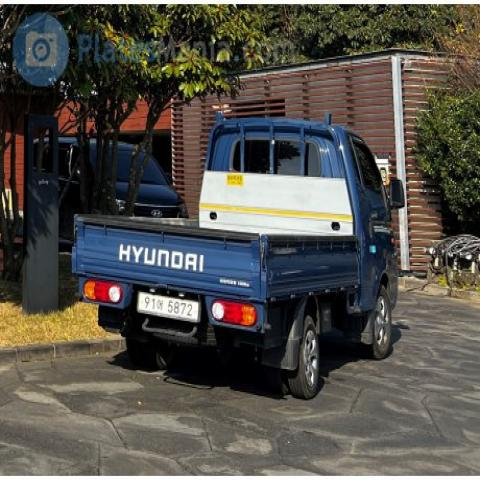LP: (134, 280, 206, 328)
